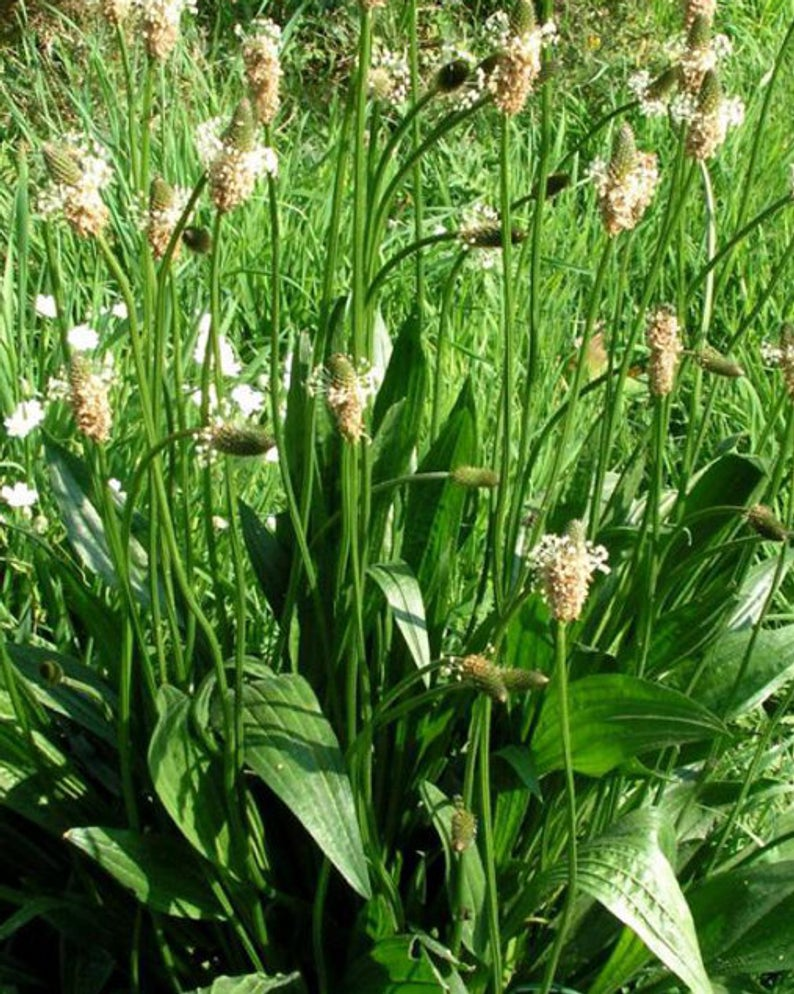buckhorn plantain: (44, 4, 725, 949)
